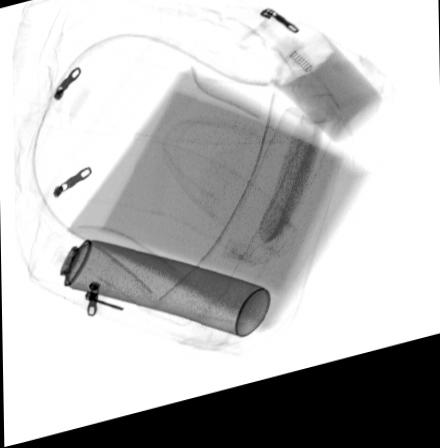Sprayer: (27, 232, 270, 350)
